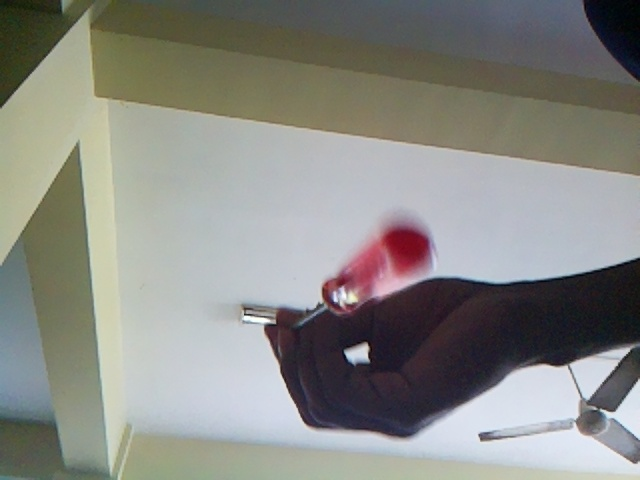redskrew: (281, 225, 439, 313)
